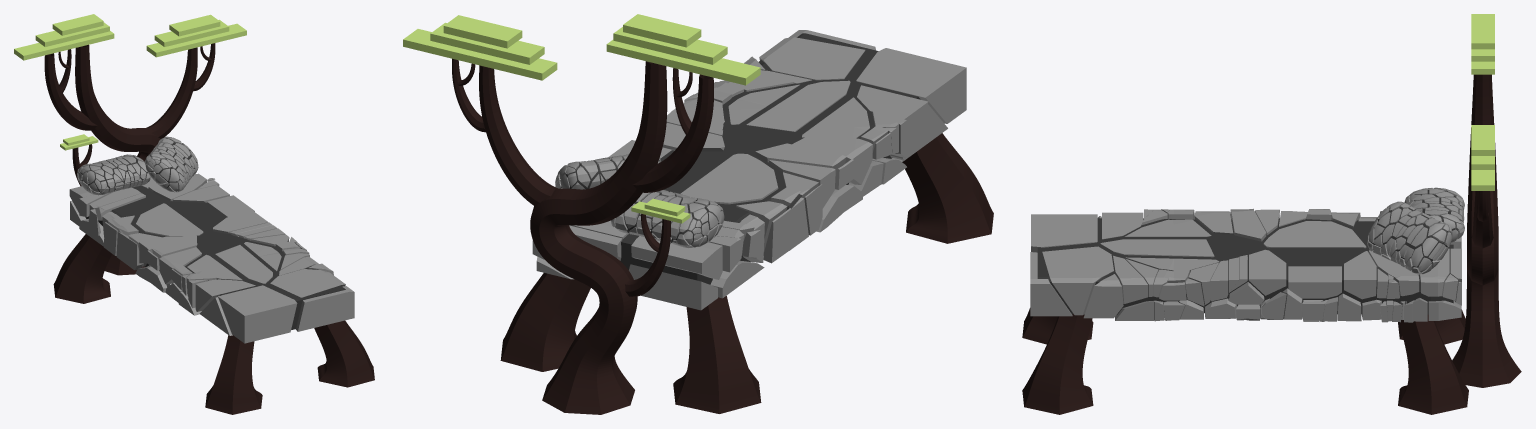
File: bedbth.fbx
3 renders of one model, left to right at view 1: azimuth 30°, elevation 25°; view 2: azimuth 150°, elevation 25°; view 3: azimuth 270°, elevation 25°, orthographic. The views are drawn at different scales.
Visible parts, largest first — view 1: Cube_cell, NurbsPath, Cube, NurbsPath.001, Cube.001_cell.049, Cube.001_cell.001, NurbsPath.005, NurbsPath.002, Cube.003, Cube.006, Cube.007, Cube.004 (+3 smaller); view 2: Cube_cell, NurbsPath, NurbsPath.001, Cube, NurbsPath.005, Cube.001_cell.049, NurbsPath.002, Cube.003, Cube.006, Cube.004, Cube.007, Cube.008 (+5 smaller); view 3: Cube_cell, NurbsPath, NurbsPath.001, Cube, Cube.001_cell.001, Cube.001_cell.049, NurbsPath.005, Cube.005, Cube.008, Cube.002, Cube.006.
Part boxes in pixels (x1=…): Cube_cell: x1=69, y1=173, x2=354, y2=343; NurbsPath: x1=53, y1=234, x2=374, y2=414; Cube: x1=85, y1=185, x2=345, y2=329; NurbsPath.001: x1=75, y1=44, x2=160, y2=275; Cube.001_cell.049: x1=77, y1=154, x2=150, y2=195; Cube.001_cell.001: x1=144, y1=136, x2=198, y2=192; NurbsPath.005: x1=146, y1=47, x2=197, y2=138; NurbsPath.002: x1=44, y1=53, x2=97, y2=130; Cube.003: x1=14, y1=31, x2=114, y2=60; Cube.006: x1=146, y1=23, x2=246, y2=57; Cube.007: x1=154, y1=19, x2=229, y2=46; Cube.004: x1=35, y1=22, x2=109, y2=46; Cube_cell: x1=532, y1=30, x2=966, y2=310; NurbsPath: x1=500, y1=133, x2=993, y2=413; NurbsPath.001: x1=530, y1=61, x2=667, y2=414; Cube: x1=620, y1=33, x2=920, y2=284; NurbsPath.005: x1=479, y1=65, x2=557, y2=206; Cube.001_cell.049: x1=610, y1=190, x2=724, y2=247; NurbsPath.002: x1=633, y1=74, x2=713, y2=192; Cube.003: x1=606, y1=40, x2=760, y2=85; Cube.006: x1=403, y1=29, x2=557, y2=80; Cube.004: x1=613, y1=27, x2=727, y2=64; Cube.007: x1=430, y1=22, x2=544, y2=64; Cube.008: x1=443, y1=15, x2=522, y2=48; Cube_cell: x1=1030, y1=208, x2=1461, y2=322; NurbsPath: x1=1022, y1=308, x2=1468, y2=414; NurbsPath.001: x1=1452, y1=74, x2=1521, y2=387; Cube: x1=1037, y1=218, x2=1453, y2=314; Cube.001_cell.001: x1=1367, y1=201, x2=1452, y2=274; Cube.001_cell.049: x1=1404, y1=187, x2=1464, y2=242; NurbsPath.005: x1=1471, y1=191, x2=1493, y2=248; Cube.005: x1=1471, y1=18, x2=1494, y2=49; Cube.008: x1=1471, y1=125, x2=1494, y2=155; Cube.002: x1=1370, y1=207, x2=1447, y2=267; Cube.006: x1=1471, y1=170, x2=1494, y2=190.
Bounding box in the file's own units: 435 × 468 × 680.
